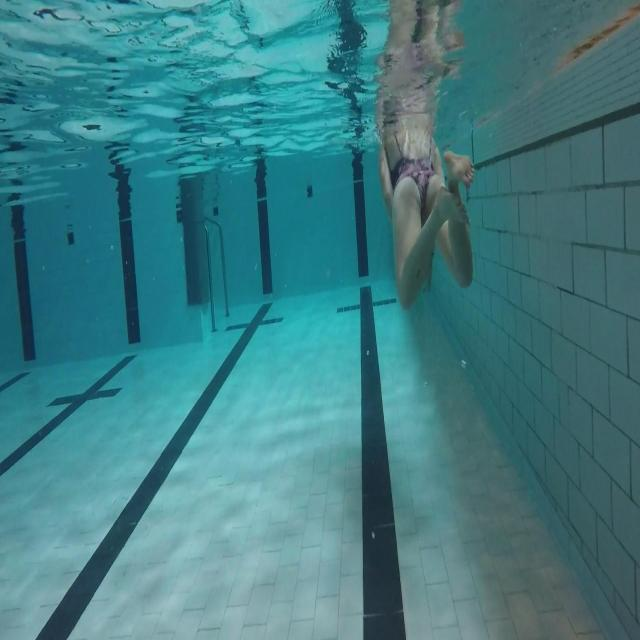human: (374, 0, 475, 310)
